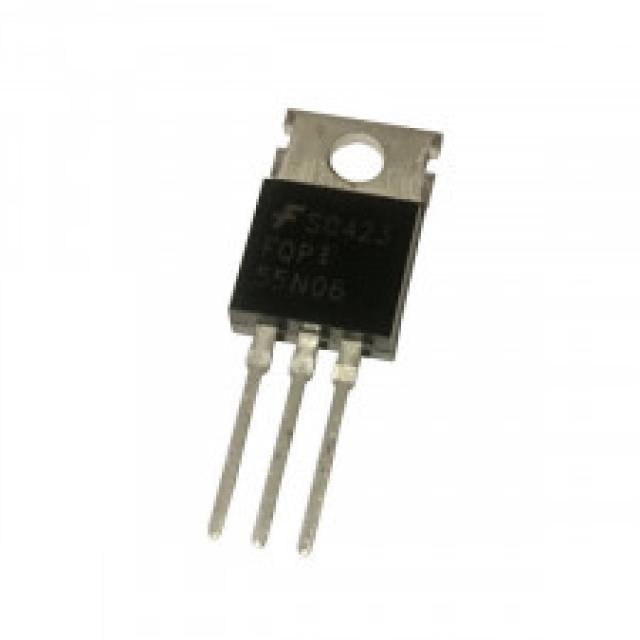Transistor: (206, 108, 442, 562)
